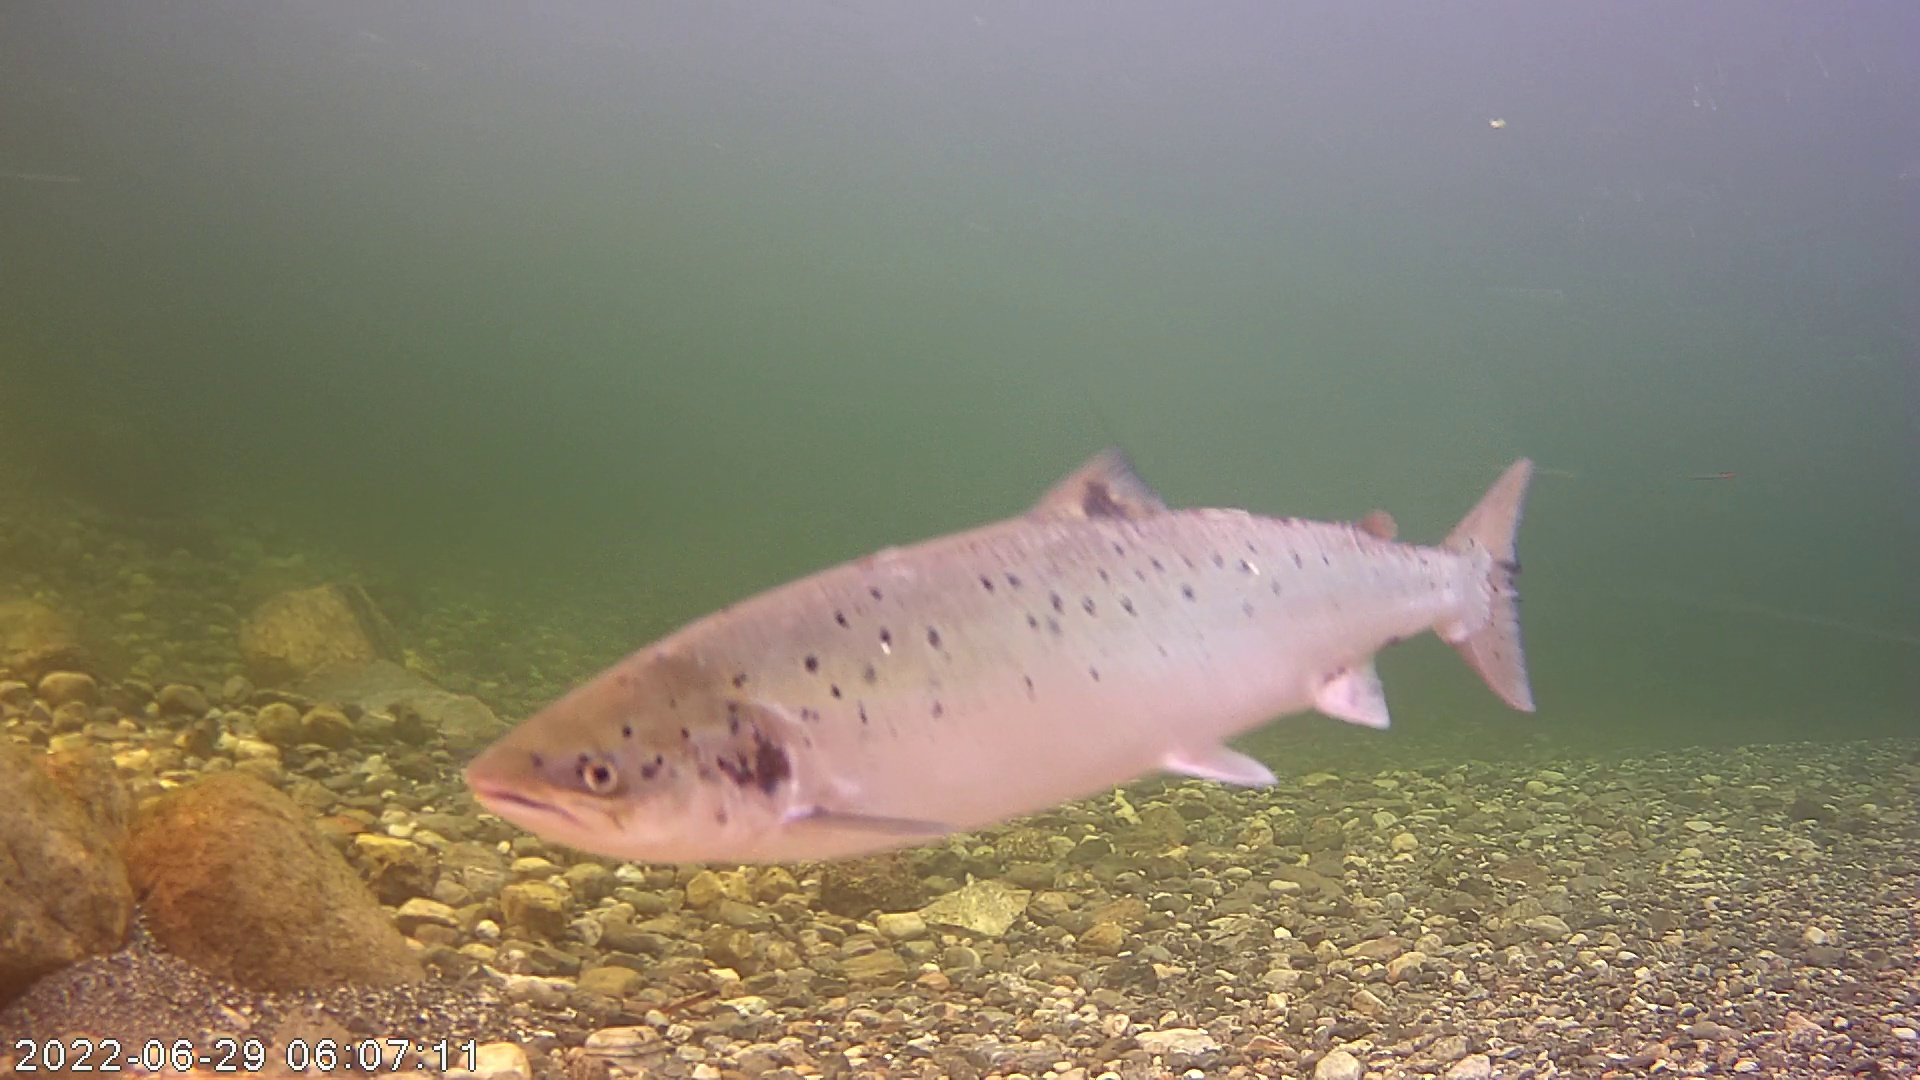salmon: (472, 369, 1543, 858)
